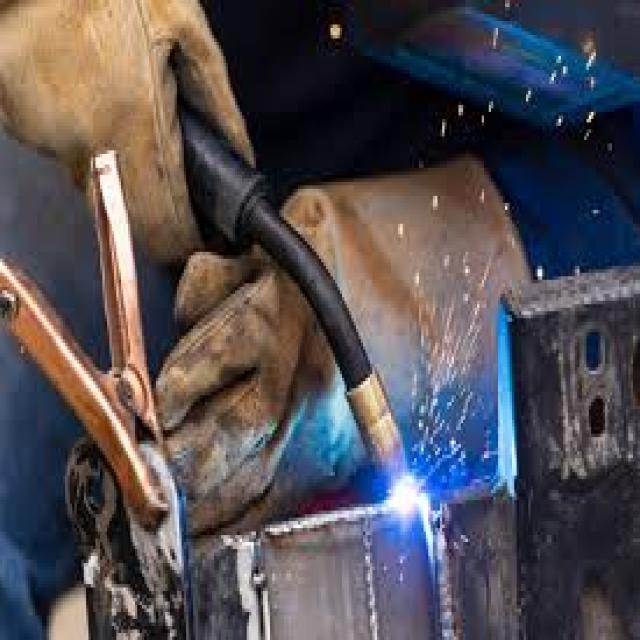welding: (388, 481, 423, 514)
